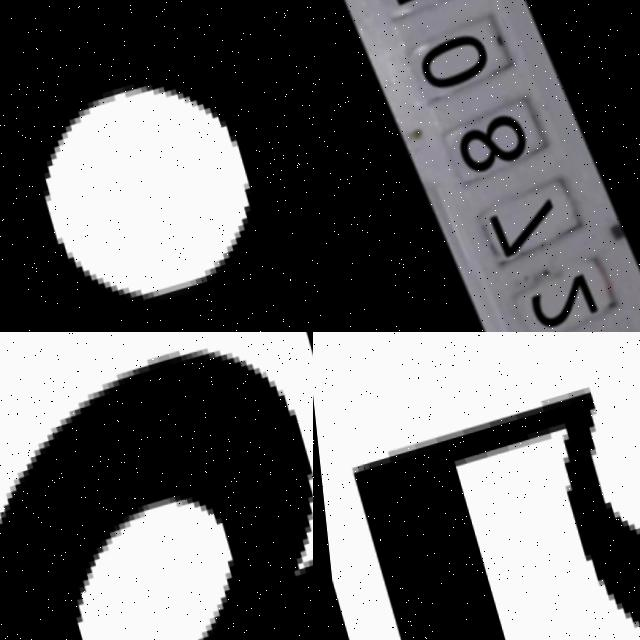0: (386, 17, 504, 110)
2: (492, 265, 605, 332)
4: (360, 0, 473, 28)
5: (313, 332, 640, 640)
7: (457, 183, 572, 275)
8: (427, 102, 538, 193)
A: (0, 0, 313, 332)
G: (0, 332, 313, 640)
